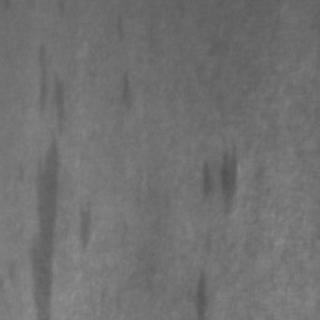inclusion: (24, 122, 60, 314), (196, 140, 238, 216), (33, 38, 66, 134), (184, 260, 212, 318), (72, 197, 96, 253), (110, 66, 136, 116)
